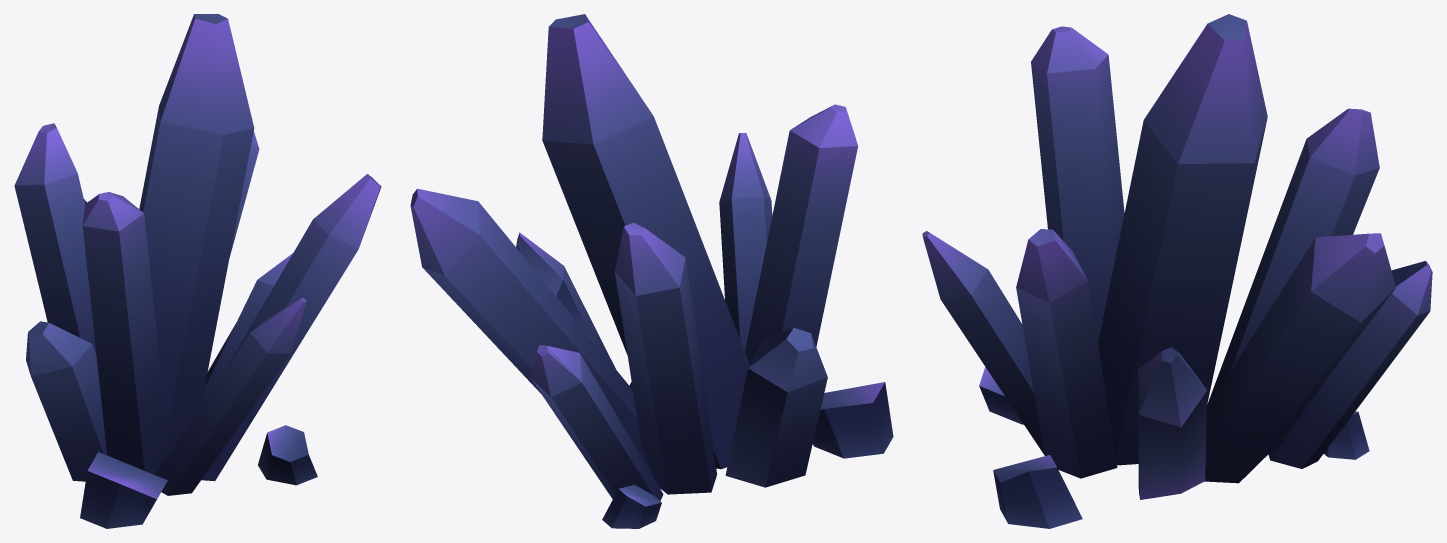
Rendered from mesh_iron.fbx.
3 views of the same model, side by side, from view 1: azimuth 30°, elevation 25°; view 2: azimuth 150°, elevation 25°; view 3: azimuth 270°, elevation 25° (orthographic). The views are drawn at different scales.
Visible parts, largest first — view 1: resource_iron; view 2: resource_iron; view 3: resource_iron.
Boxes of the visible parts, left/top/right/bottom form: resource_iron: left=14, top=14, right=381, bottom=528; resource_iron: left=410, top=14, right=893, bottom=528; resource_iron: left=922, top=14, right=1432, bottom=528.
Bounding box in the file's own units: 2.5 × 3.21 × 3.02.
